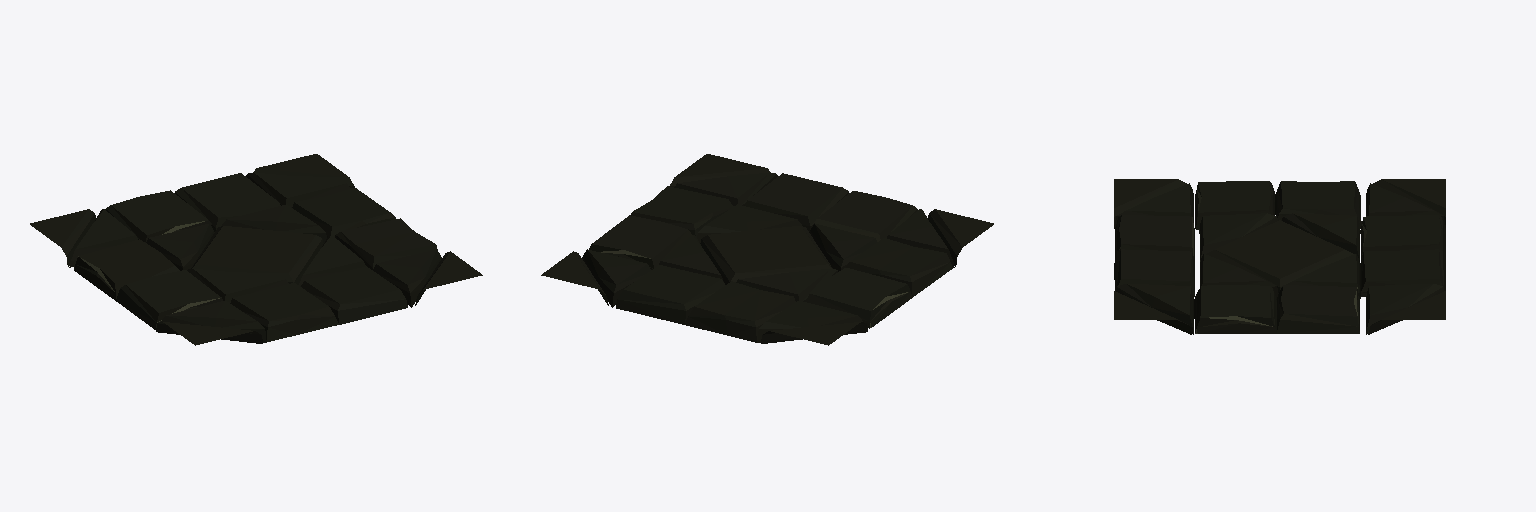
File: Floor_Diamond.obj
3 renders of one model, left to right at view 1: azimuth 30°, elevation 25°; view 2: azimuth 150°, elevation 25°; view 3: azimuth 270°, elevation 25°, orthographic.
Parts seen in each view (by area): view 1: Floor_Diamond; view 2: Floor_Diamond; view 3: Floor_Diamond.
Part boxes in pixels (bbox=[...]): Floor_Diamond: bbox=[30, 154, 482, 345]; Floor_Diamond: bbox=[541, 154, 993, 345]; Floor_Diamond: bbox=[1114, 179, 1445, 334].
Bounding box in the file's own units: 2 × 0.1183 × 2.